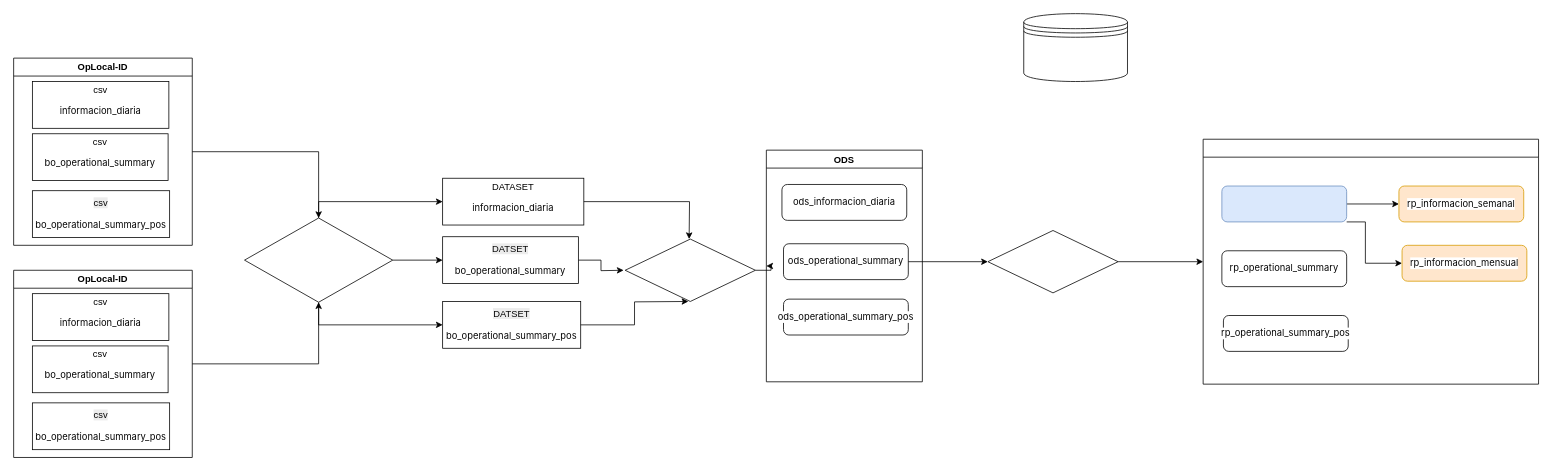
This 1552x471 diagram has some shape labels left out. The box of each missing label's shape, as (x1, y1, x2, y2) in pixels:
analytic: (1202, 138, 1539, 384)
CONSOLIDAR DATASETS buscar_y_filtrar_csv: (244, 217, 393, 302)
extraer y copiar ods: (624, 238, 755, 301)
geopos db: (1023, 13, 1127, 82)
rp_informacion_diaria: (1221, 185, 1347, 222)
transformacion y carga datos: (987, 230, 1118, 293)
